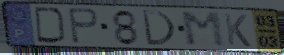8: (110, 8, 140, 48)
D: (140, 8, 178, 47), (33, 5, 69, 45)
K: (222, 12, 253, 48)
M: (178, 11, 228, 49)
P: (66, 7, 101, 46)
